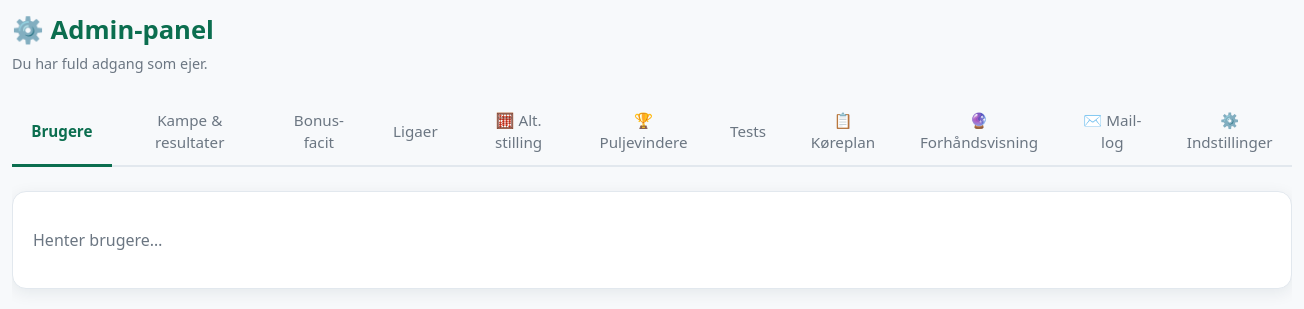
Test: AdminPage › Owner-bruger (fuld adgang) › faneskift fra Brugere til Bonus-facit viser bonus-indhold
This screenshot has width=1304, height=309.
Click the button with test id "tab-bonus" at (319, 133), box [268,99,370,167]
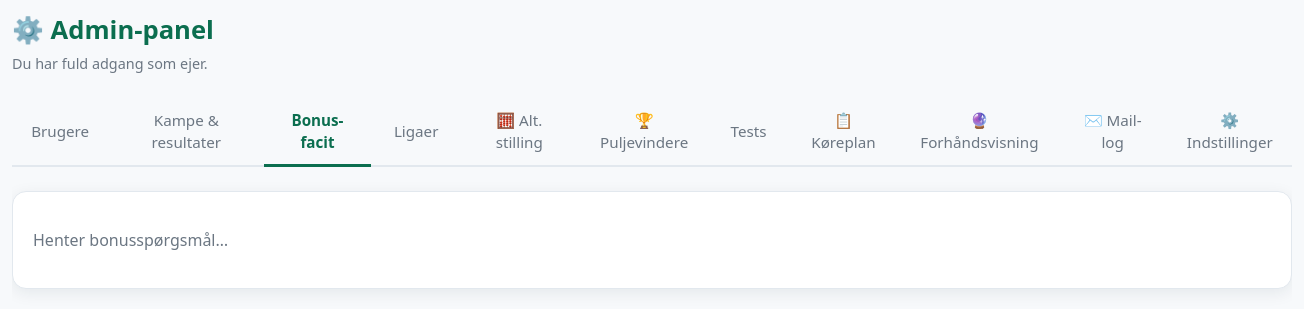
Check: the text "Henter bonusspørgsmål…" is shown, box [33,229,228,251]
